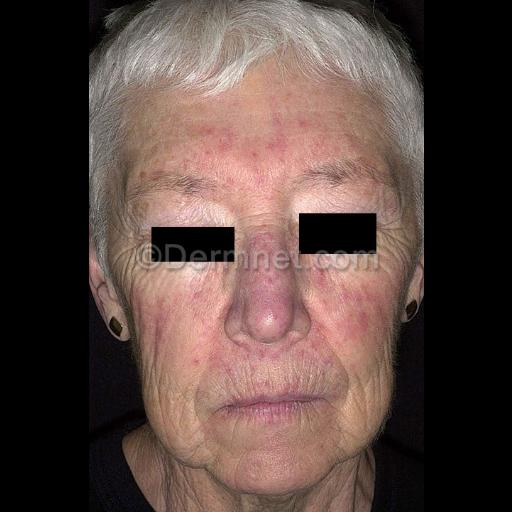Skin_Lesion: (314, 277, 388, 353), (248, 108, 320, 162), (170, 122, 242, 172), (240, 266, 292, 322), (177, 353, 273, 379), (157, 298, 219, 334)
